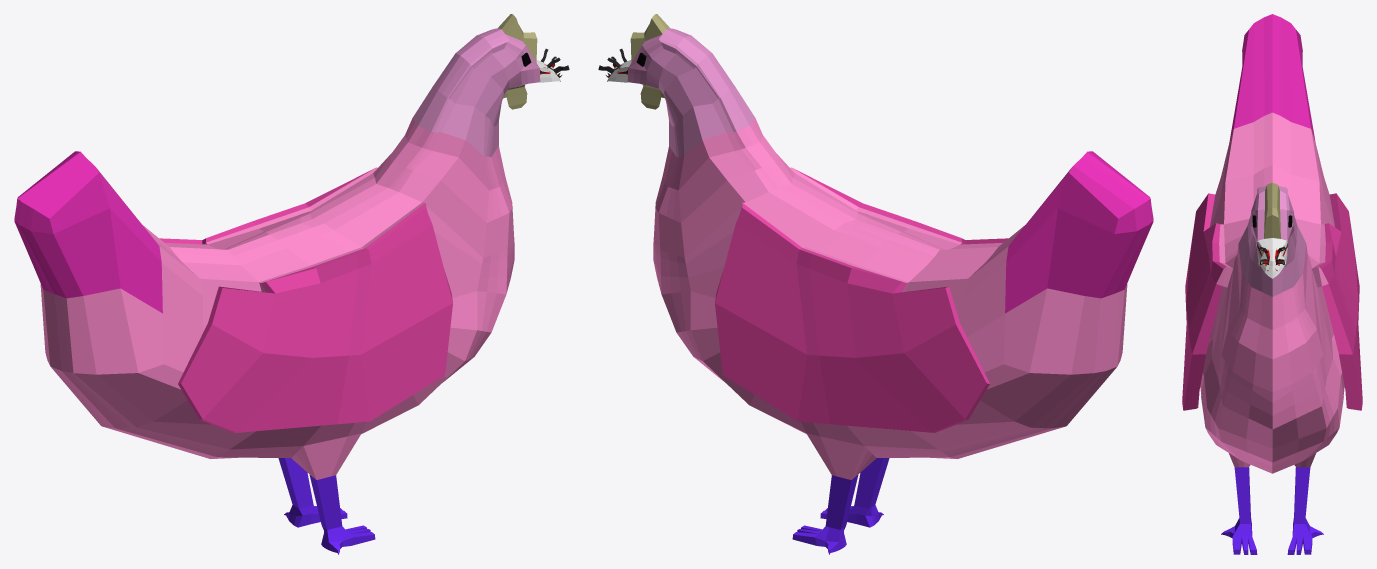
Rendered from Chicken.fbx.
The picture shows the model from 3 angles, left to right: view 1: azimuth 30°, elevation 25°; view 2: azimuth 150°, elevation 25°; view 3: azimuth 270°, elevation 25°; orthographic projection. The views are drawn at different scales.
Visible parts, largest first — view 1: Cube, Comb; view 2: Cube, Comb; view 3: Cube, Comb, Iron Beak, Devil's Horns.
Boxes of the visible parts, left/top/right/bottom form: Cube: left=14, top=28, right=540, bottom=554; Comb: left=498, top=14, right=537, bottom=62; Cube: left=627, top=28, right=1153, bottom=554; Comb: left=630, top=14, right=669, bottom=62; Cube: left=1182, top=14, right=1362, bottom=554; Comb: left=1264, top=182, right=1280, bottom=238; Iron Beak: left=1257, top=238, right=1287, bottom=278; Devil's Horns: left=1257, top=241, right=1287, bottom=270.
Bounding box in the file's own units: 122 × 100 × 36.82.
